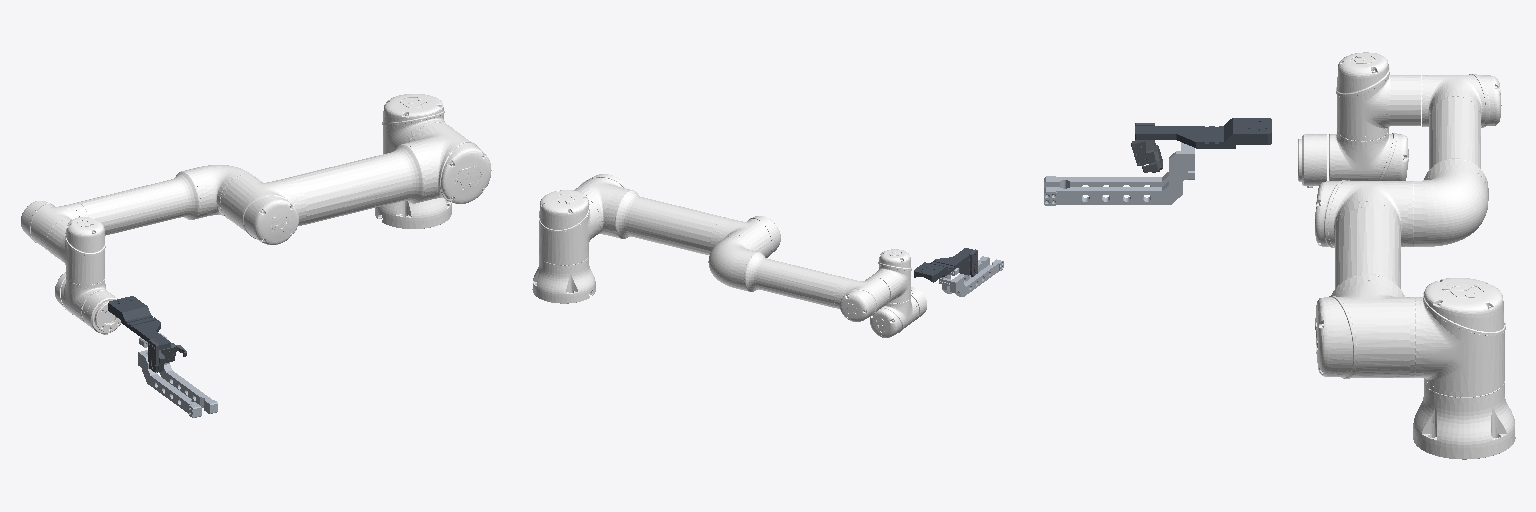
The robot description file, URDF, robot "CS66urdf":
<?xml version="1.0" encoding="utf-8"?>
<!-- This URDF was automatically created by SolidWorks to URDF Exporter! Originally created by Stephen Brawner (brawner@gmail.com) 
     Commit Version: 1.5.1-0-g916b5db  Build Version: 1.5.7152.31018
     For more information, please see http://wiki.ros.org/sw_urdf_exporter -->
<!-- Kinematic joint origins rebuilt 2026-10-15 from sensors.cs66_kinematics
     profile elite_cs66 (teach MDH). Meshes unchanged (SolidWorks export).
     EOAT: KWR75 + EFG-C65 static stack after link6. -->
<robot
  name="CS66urdf">
  <link
    name="base_link">
    <inertial>
      <origin
        xyz="-0.00060346 1.4311E-05 0.060221"
        rpy="0 0 0" />
      <mass
        value="0.57127" />
      <inertia
        ixx="0.0010759"
        ixy="7.8337E-08"
        ixz="-1.3213E-05"
        iyy="0.0010109"
        iyz="4.5992E-07"
        izz="0.001408" />
    </inertial>
    <visual>
      <origin
        xyz="0 0 0"
        rpy="0 0 0" />
      <geometry>
        <mesh
          filename="meshes/base_link.STL" />
      </geometry>
      <material
        name="">
        <color
          rgba="1 1 1 1" />
      </material>
    </visual>
    <collision>
      <origin
        xyz="0 0 0"
        rpy="0 0 0" />
      <geometry>
        <mesh
          filename="meshes/base_link.STL" />
      </geometry>
    </collision>
  </link>
  <link
    name="link1">
    <inertial>
      <origin
        xyz="2.2E-05 -0.016526 -0.014442"
        rpy="0 0 0" />
      <mass
        value="4.521" />
      <inertia
        ixx="0.014192"
        ixy="1.7839E-05"
        ixz="-1.027E-06"
        iyy="0.0091982"
        iyz="-4.6778E-05"
        izz="0.012777" />
    </inertial>
    <visual>
      <origin
        xyz="0 0 0"
        rpy="0 0 0" />
      <geometry>
        <mesh
          filename="meshes/link1.STL" />
      </geometry>
      <material
        name="">
        <color
          rgba="1 1 1 1" />
      </material>
    </visual>
    <collision>
      <origin
        xyz="0 0 0"
        rpy="0 0 0" />
      <geometry>
        <mesh
          filename="meshes/link1.STL" />
      </geometry>
    </collision>
  </link>
  <joint
    name="joint1"
    type="revolute">
    <origin
      xyz="0 0 0.162222"
      rpy="0 0 0" />
    <parent
      link="base_link" />
    <child
      link="link1" />
    <axis
      xyz="0 0 1" />
    <limit lower="-6.28318530718" upper="6.28318530718" effort="150" velocity="3.14" />
  </joint>
  <link
    name="link2">
    <inertial>
      <origin
        xyz="-0.17828 4E-06 0.12803"
        rpy="0 0 0" />
      <mass
        value="7.533" />
      <inertia
        ixx="0.13719"
        ixy="-7.5676E-05"
        ixz="-0.17551"
        iyy="0.6614"
        iyz="7.59E-06"
        izz="0.53649" />
    </inertial>
    <visual>
      <origin
        xyz="0 0 0"
        rpy="0 0 0" />
      <geometry>
        <mesh
          filename="meshes/link2.STL" />
      </geometry>
      <material
        name="">
        <color
          rgba="1 1 1 1" />
      </material>
    </visual>
    <collision>
      <origin
        xyz="0 0 0"
        rpy="0 0 0" />
      <geometry>
        <mesh
          filename="meshes/link2.STL" />
      </geometry>
    </collision>
  </link>
  <joint
    name="joint2"
    type="revolute">
    <origin
      xyz="0 0 0"
      rpy="1.5708 0 0" />
    <parent
      link="link1" />
    <child
      link="link2" />
    <axis
      xyz="0 0 1" />
    <limit lower="-6.28318530718" upper="6.28318530718" effort="150" velocity="3.14" />
  </joint>
  <link
    name="link3">
    <inertial>
      <origin
        xyz="-0.20416 -7E-06 0.03064"
        rpy="0 0 0" />
      <mass
        value="3.009" />
      <inertia
        ixx="0.0087604"
        ixy="1.7762E-05"
        ixz="-0.010765"
        iyy="0.22281"
        iyz="-4.13E-07"
        izz="0.2176" />
    </inertial>
    <visual>
      <origin
        xyz="0 0 0"
        rpy="0 0 0" />
      <geometry>
        <mesh
          filename="meshes/link3.STL" />
      </geometry>
      <material
        name="">
        <color
          rgba="1 1 1 1" />
      </material>
    </visual>
    <collision>
      <origin
        xyz="0 0 0"
        rpy="0 0 0" />
      <geometry>
        <mesh
          filename="meshes/link3.STL" />
      </geometry>
    </collision>
  </link>
  <joint
    name="joint3"
    type="revolute">
    <origin
      xyz="-0.427765 0 0"
      rpy="0 0 0" />
    <parent
      link="link2" />
    <child
      link="link3" />
    <axis
      xyz="0 0 1" />
    <limit lower="-6.28318530718" upper="6.28318530718" effort="150" velocity="3.14" />
  </joint>
  <link
    name="link4">
    <inertial>
      <origin
        xyz="1.3E-05 -0.00479 -0.02274"
        rpy="0 0 0" />
      <mass
        value="1.559" />
      <inertia
        ixx="0.0045009"
        ixy="1.961E-06"
        ixz="-2.646E-06"
        iyy="0.0042164"
        iyz="-3.58E-07"
        izz="0.0014539" />
    </inertial>
    <visual>
      <origin
        xyz="0 0 0"
        rpy="0 0 0" />
      <geometry>
        <mesh
          filename="meshes/link4.STL" />
      </geometry>
      <material
        name="">
        <color
          rgba="1 1 1 1" />
      </material>
    </visual>
    <collision>
      <origin
        xyz="0 0 0"
        rpy="0 0 0" />
      <geometry>
        <mesh
          filename="meshes/link4.STL" />
      </geometry>
    </collision>
  </link>
  <joint
    name="joint4"
    type="revolute">
    <origin
      xyz="-0.391333 0 0.148102"
      rpy="0 0 0" />
    <parent
      link="link3" />
    <child
      link="link4" />
    <axis
      xyz="0 0 1" />
    <limit lower="-6.28318530718" upper="6.28318530718" effort="150" velocity="3.14" />
  </joint>
  <link
    name="link5">
    <inertial>
      <origin
        xyz="-1.4E-05 0.005107 -0.012702"
        rpy="0 0 0" />
      <mass
        value="1.447" />
      <inertia
        ixx="0.0023787"
        ixy="1.953E-06"
        ixz="2.643E-06"
        iyy="0.0020859"
        iyz="5.584E-06"
        izz="0.0013191" />
    </inertial>
    <visual>
      <origin
        xyz="0 0 0"
        rpy="0 0 0" />
      <geometry>
        <mesh
          filename="meshes/link5.STL" />
      </geometry>
      <material
        name="">
        <color
          rgba="1 1 1 1" />
      </material>
    </visual>
    <collision>
      <origin
        xyz="0 0 0"
        rpy="0 0 0" />
      <geometry>
        <mesh
          filename="meshes/link5.STL" />
      </geometry>
    </collision>
  </link>
  <joint
    name="joint5"
    type="revolute">
    <origin
      xyz="0 -0.0962059 0"
      rpy="1.5708 0 0" />
    <parent
      link="link4" />
    <child
      link="link5" />
    <axis
      xyz="0 0 1" />
    <limit lower="-6.28318530718" upper="6.28318530718" effort="150" velocity="3.14" />
  </joint>
  <link
    name="link6">
    <inertial>
      <origin
        xyz="-0.000684 -0.000175 -0.04234"
        rpy="0 0 0" />
      <mass
        value="0.5" />
      <inertia
        ixx="0.0014314"
        ixy="-2.32E-07"
        ixz="7.955E-06"
        iyy="0.00143"
        iyz="1.266E-06"
        izz="0.00032649" />
    </inertial>
    <visual>
      <origin
        xyz="0 0 0"
        rpy="0 0 0" />
      <geometry>
        <mesh
          filename="meshes/link6.STL" />
      </geometry>
      <material
        name="">
        <color
          rgba="1 1 1 1" />
      </material>
    </visual>
    <collision>
      <origin
        xyz="0 0 0"
        rpy="0 0 0" />
      <geometry>
        <mesh
          filename="meshes/link6.STL" />
      </geometry>
    </collision>
  </link>
  <joint
    name="joint6"
    type="revolute">
    <origin
      xyz="0 0.0948112 0"
      rpy="-1.5708 0 0" />
    <parent
      link="link5" />
    <child
      link="link6" />
    <axis
      xyz="0 0 1" />
    <limit lower="-6.28318530718" upper="6.28318530718" effort="150" velocity="3.14" />
  </joint>

  <!-- EE: KWR75 FT + EFG-C65 gripper (static viz). CAD: cad/EFG-C65.STEP -->
  <link name="ft_kwr75_link">
    <inertial>
      <origin xyz="0 0 0.01675" rpy="0 0 0"/>
      <mass value="0.25"/>
      <inertia ixx="2e-4" ixy="0" ixz="0" iyy="2e-4" iyz="0" izz="2e-4"/>
    </inertial>
    <visual>
      <origin xyz="0 0 0" rpy="0 0 0"/>
      <geometry>
        <mesh filename="meshes/kwr75.STL"/>
      </geometry>
      <material name="ft_kwr75">
        <color rgba="0.55 0.58 0.62 1"/>
      </material>
    </visual>
    <collision>
      <origin xyz="0 0 0" rpy="0 0 0"/>
      <geometry>
        <mesh filename="meshes/kwr75.STL"/>
      </geometry>
    </collision>
  </link>
  <joint name="ft_kwr75_fixed" type="fixed">
    <origin xyz="0 0 0" rpy="0 0 0"/>
    <parent link="link6"/>
    <child link="ft_kwr75_link"/>
  </joint>

  <link name="gripper_base_link">
    <inertial>
      <origin xyz="0 0 0.045" rpy="0 0 0"/>
      <mass value="0.8"/>
      <inertia ixx="1e-3" ixy="0" ixz="0" iyy="1e-3" iyz="0" izz="1e-3"/>
    </inertial>
    <visual>
      <origin xyz="0 0 0" rpy="0 0 0"/>
      <geometry>
        <mesh filename="meshes/efg_c65_v3.STL"/>
      </geometry>
      <material name="gripper_efg_c65">
        <color rgba="0.22 0.22 0.24 1"/>
      </material>
    </visual>
    <collision>
      <origin xyz="0 0 0" rpy="0 0 0"/>
      <geometry>
        <mesh filename="meshes/efg_c65_v3.STL"/>
      </geometry>
    </collision>
  </link>
  <joint name="gripper_base_joint" type="fixed">
    <!-- KWR75 tool face ≈ z=+0.0335; EFG-C65 mesh mount@z0 (CAD -Y→tool -Z), tip@z≈0.117 -->
    <origin xyz="0 0 0.0335" rpy="0 0 0"/>
    <parent link="ft_kwr75_link"/>
    <child link="gripper_base_link"/>
  </joint>

  <!-- Cell C EOAT tooling on EFG-C65: dual fingertips + D405 bracket/clamp/camera.
       Meshes converted from SolidWorks OUT assembly (mm) into this tool frame (m);
       see sensors-arm/scripts/import_efg_c65_d405_eoat.py -->
  <link name="left_finger_link">
    <visual>
      <origin xyz="0 0 0" rpy="0 0 0"/>
      <geometry>
        <mesh filename="meshes/efg_c65_left_fingertip.STL"/>
      </geometry>
      <material name="finger_tip">
        <color rgba="0.75 0.78 0.82 1"/>
      </material>
    </visual>
    <collision>
      <origin xyz="0 0 0" rpy="0 0 0"/>
      <geometry>
        <mesh filename="meshes/efg_c65_left_fingertip.STL"/>
      </geometry>
    </collision>
  </link>
  <joint name="left_finger_fixed" type="fixed">
    <origin xyz="0 0 0" rpy="0 0 0"/>
    <parent link="gripper_base_link"/>
    <child link="left_finger_link"/>
  </joint>

  <link name="right_finger_link">
    <visual>
      <origin xyz="0 0 0" rpy="0 0 0"/>
      <geometry>
        <mesh filename="meshes/efg_c65_right_fingertip.STL"/>
      </geometry>
      <material name="finger_tip">
        <color rgba="0.75 0.78 0.82 1"/>
      </material>
    </visual>
    <collision>
      <origin xyz="0 0 0" rpy="0 0 0"/>
      <geometry>
        <mesh filename="meshes/efg_c65_right_fingertip.STL"/>
      </geometry>
    </collision>
  </link>
  <joint name="right_finger_fixed" type="fixed">
    <origin xyz="0 0 0" rpy="0 0 0"/>
    <parent link="gripper_base_link"/>
    <child link="right_finger_link"/>
  </joint>

  <link name="camera_bracket_link">
    <visual>
      <origin xyz="0 0 0" rpy="0 0 0"/>
      <geometry>
        <mesh filename="meshes/efg_c65_camera_bracket.STL"/>
      </geometry>
      <material name="camera_bracket">
        <color rgba="0.35 0.38 0.42 1"/>
      </material>
    </visual>
    <collision>
      <origin xyz="0 0 0" rpy="0 0 0"/>
      <geometry>
        <mesh filename="meshes/efg_c65_camera_bracket.STL"/>
      </geometry>
    </collision>
  </link>
  <joint name="camera_bracket_joint" type="fixed">
    <origin xyz="0 0 0" rpy="0 0 0"/>
    <parent link="gripper_base_link"/>
    <child link="camera_bracket_link"/>
  </joint>

  <link name="camera_clamp_link">
    <visual>
      <origin xyz="0 0 0" rpy="0 0 0"/>
      <geometry>
        <mesh filename="meshes/efg_c65_camera_clamp.STL"/>
      </geometry>
      <material name="camera_clamp">
        <color rgba="0.4 0.42 0.45 1"/>
      </material>
    </visual>
    <collision>
      <origin xyz="0 0 0" rpy="0 0 0"/>
      <geometry>
        <mesh filename="meshes/efg_c65_camera_clamp.STL"/>
      </geometry>
    </collision>
  </link>
  <joint name="camera_clamp_joint" type="fixed">
    <origin xyz="0 0 0" rpy="0 0 0"/>
    <parent link="gripper_base_link"/>
    <child link="camera_clamp_link"/>
  </joint>

  <link name="d405_link">
    <visual>
      <origin xyz="0 0 0" rpy="0 0 0"/>
      <geometry>
        <mesh filename="meshes/d405_camera.STL"/>
      </geometry>
      <material name="d405">
        <color rgba="0.12 0.12 0.14 1"/>
      </material>
    </visual>
    <collision>
      <origin xyz="0 0 0" rpy="0 0 0"/>
      <geometry>
        <mesh filename="meshes/d405_camera.STL"/>
      </geometry>
    </collision>
  </link>
  <joint name="d405_joint" type="fixed">
    <origin xyz="0 0 0" rpy="0 0 0"/>
    <parent link="gripper_base_link"/>
    <child link="d405_link"/>
  </joint>
</robot>

--- What the picture shows (computed from the rendered views, not written in the file) ---
The picture shows the robot from 3 angles, left to right: view 1: azimuth 30°, elevation 25°; view 2: azimuth 150°, elevation 25°; view 3: azimuth 270°, elevation 25°; orthographic projection.
Model CS66urdf with 14 links and 13 joints (6 revolute, 7 fixed), rooted at base_link, posed every joint at zero.
Links seen in each view (by area): view 1: link2, link3, link4, link1, base_link, camera_bracket_link, link6, left_finger_link, link5, right_finger_link, camera_clamp_link; view 2: link2, link3, link1, base_link, link4, link5, camera_bracket_link, left_finger_link; view 3: link2, link3, link1, link4, base_link, link5, right_finger_link, camera_bracket_link, link6, left_finger_link, camera_clamp_link.
Link boxes in pixels (x1,y1,x2,y2): link2: (220, 122, 491, 244); link3: (21, 165, 252, 251); link4: (47, 217, 105, 284); link1: (382, 94, 445, 153); base_link: (375, 198, 451, 228); camera_bracket_link: (108, 296, 170, 349); link6: (82, 291, 120, 334); left_finger_link: (138, 350, 201, 417); link5: (55, 272, 107, 322); right_finger_link: (139, 333, 217, 413); camera_clamp_link: (148, 339, 186, 372); link2: (574, 174, 780, 257); link3: (708, 236, 889, 321); link1: (539, 190, 600, 265); base_link: (532, 256, 595, 303); link4: (869, 249, 911, 304); link5: (870, 296, 918, 337); camera_bracket_link: (914, 248, 973, 282); left_finger_link: (939, 259, 1003, 296); link2: (1315, 180, 1415, 378); link3: (1414, 74, 1501, 246); link1: (1416, 278, 1505, 397); link4: (1336, 52, 1420, 141); base_link: (1413, 383, 1515, 459); link5: (1329, 132, 1408, 180); right_finger_link: (1044, 142, 1194, 205); camera_bracket_link: (1135, 118, 1271, 148); link6: (1298, 134, 1326, 187); left_finger_link: (1044, 171, 1194, 188); camera_clamp_link: (1131, 123, 1162, 172).
Size in the robot's own frame: 0.9338 by 0.6883 by 0.2394 metres.
Meshes: 14 distinct files referenced, 11 mesh visuals loaded (11 binary STL); not drawn: 3 (reference not matched to a file when rendering).
